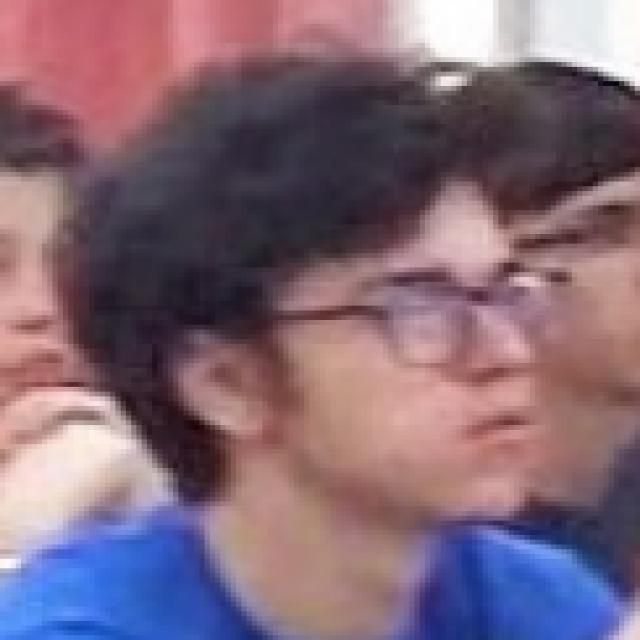Looking forward: (267, 198, 547, 528)
